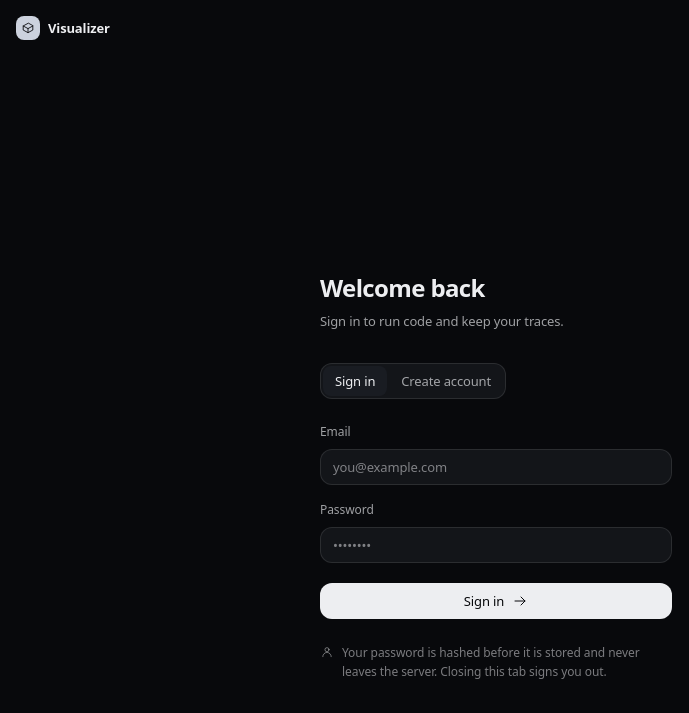
Test case: sign in › refuses a junk address without asking the server
Type "not-an-address" into the field labelled "Email" at (496, 467), box [320,449,672,485]
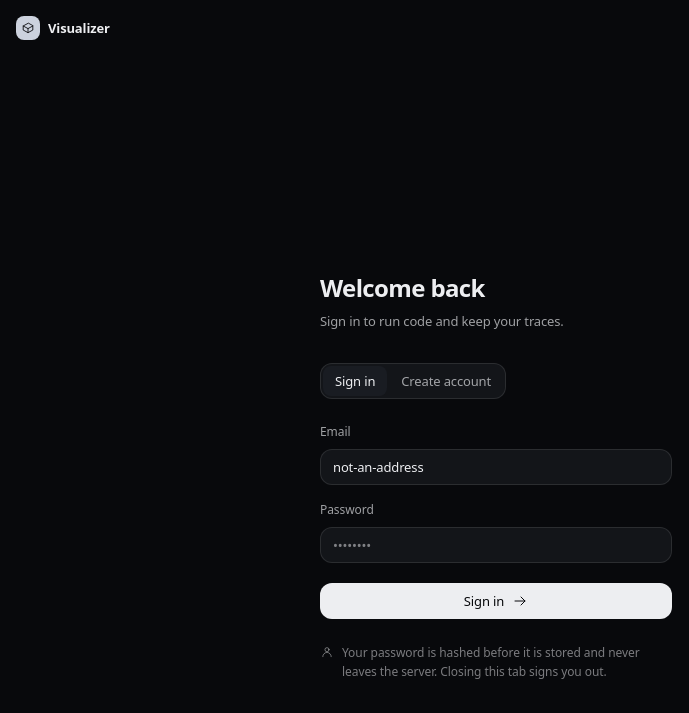
Type "hunter2!!" into the password field labelled "Password" at (496, 545), box [320,527,672,563]
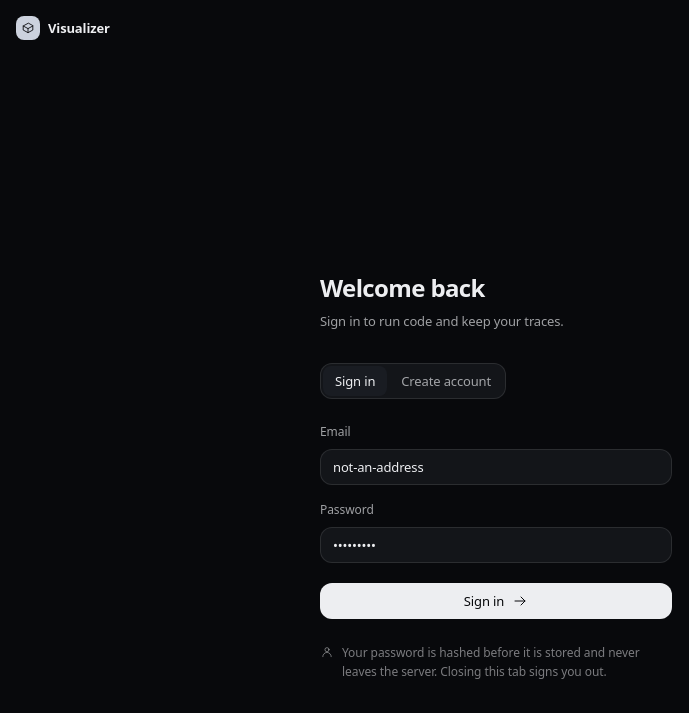
Click the button "Sign in" below "Email" at (496, 601), box [320,583,672,619]
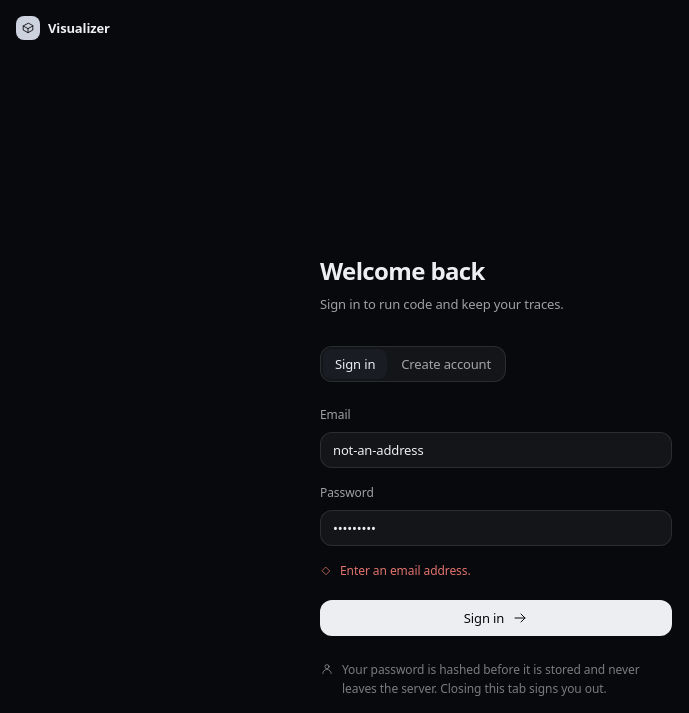
Result: the message "Enter an email address." is shown at [320,562,471,579]
